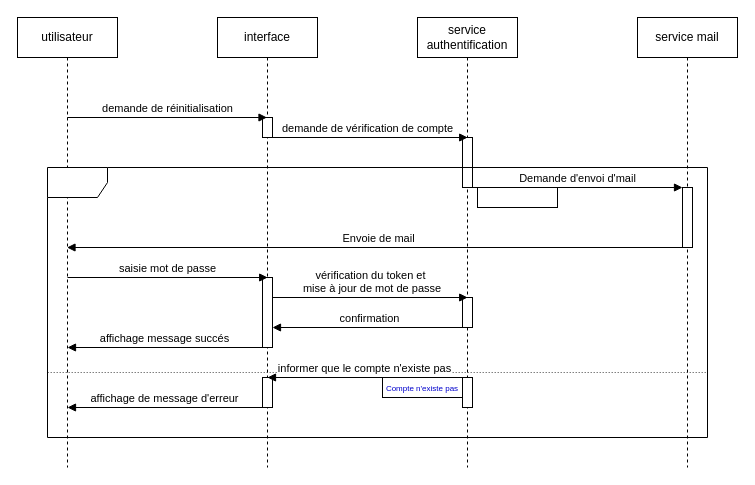
The diagram is 755 pixels wide and 485 high, and some of its shapes have lost their labels. Here are the shapes that lost their labels. From the top down, the centre of each, then its label:
(x=517, y=197): Compte existe
(x=377, y=302): alt
